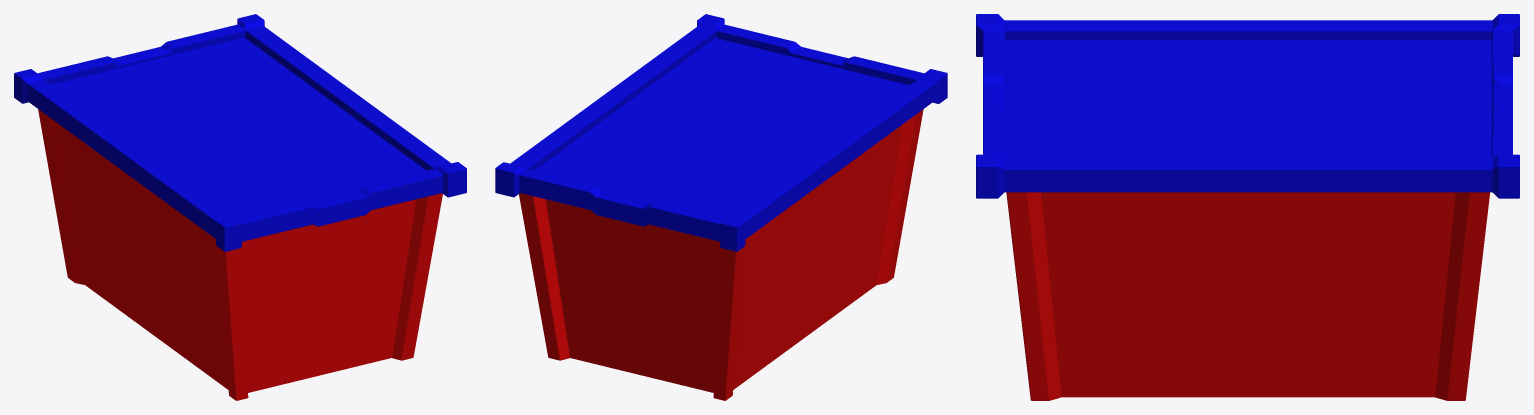
File: 3D_Taper_Grande_Plastico.fbx
3 renders of one model, left to right at view 1: azimuth 30°, elevation 25°; view 2: azimuth 150°, elevation 25°; view 3: azimuth 270°, elevation 25°, orthographic. The views are drawn at different scales.
Parts seen in each view (by area): view 1: TaperGrande_Plastico; view 2: TaperGrande_Plastico; view 3: TaperGrande_Plastico.
Part boxes in pixels (<box>): TaperGrande_Plastico: <box>14,14,466,400</box>; TaperGrande_Plastico: <box>495,14,947,400</box>; TaperGrande_Plastico: <box>976,14,1519,400</box>.
Bounding box in the file's own units: 39.68 × 30.92 × 59.74.
